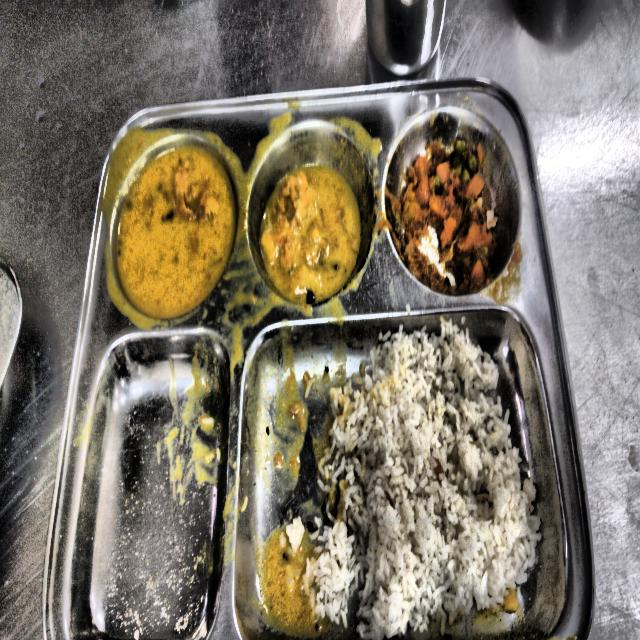gajar-aloo: (391, 140, 498, 294)
